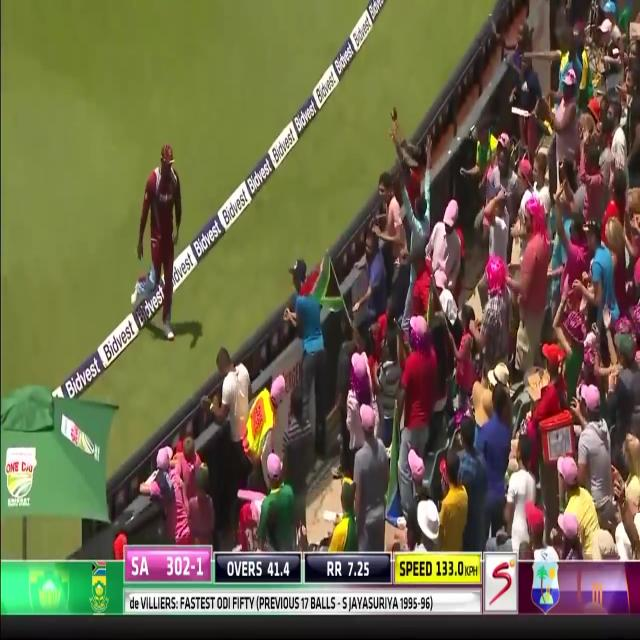Fielder: (137, 142, 184, 328)
